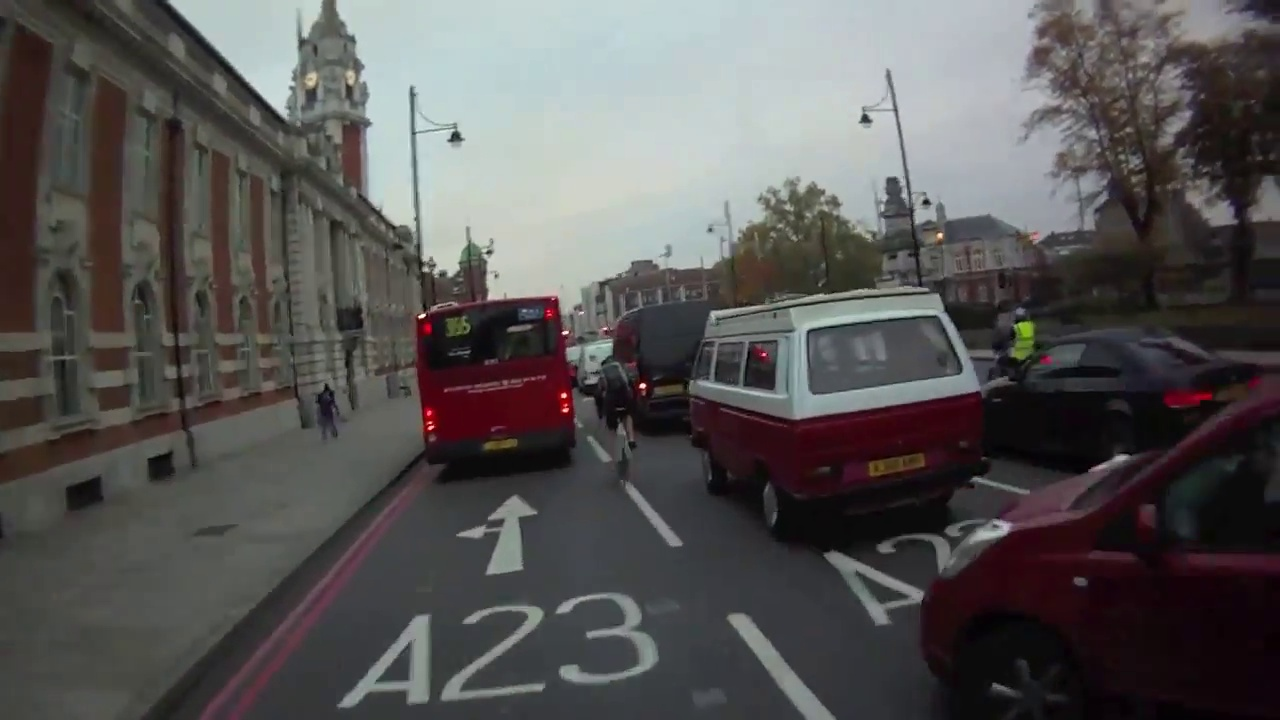cyclist_back: (586, 356, 652, 491)
